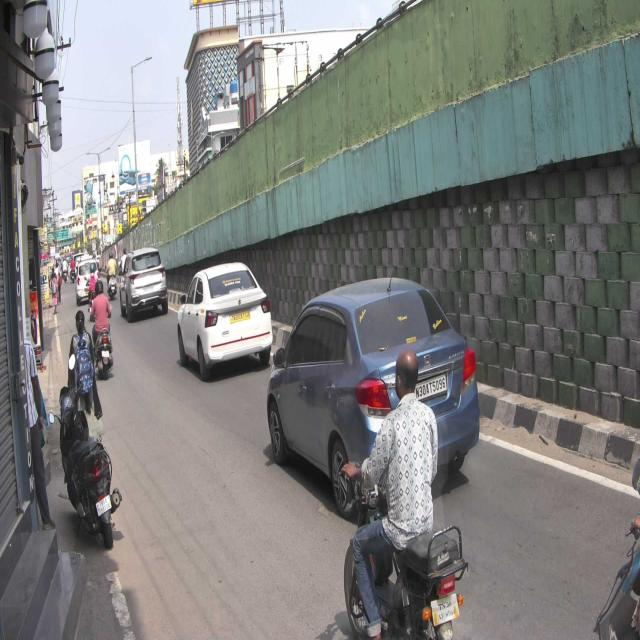single_rider: (338, 345, 468, 640)
